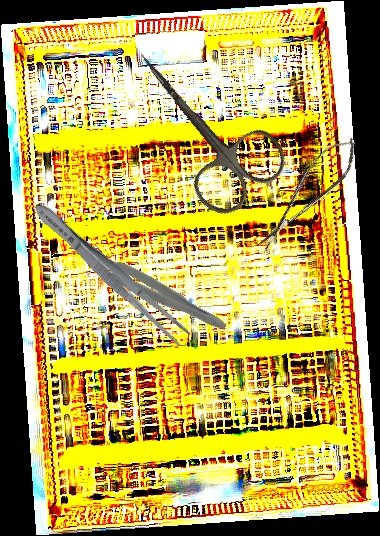Dressing Forceps: (27, 195, 195, 351)
Iris Scissors: (104, 22, 296, 225)
Micro Scissor: (245, 130, 368, 258)
Tissue Forceps: (84, 243, 233, 337)
